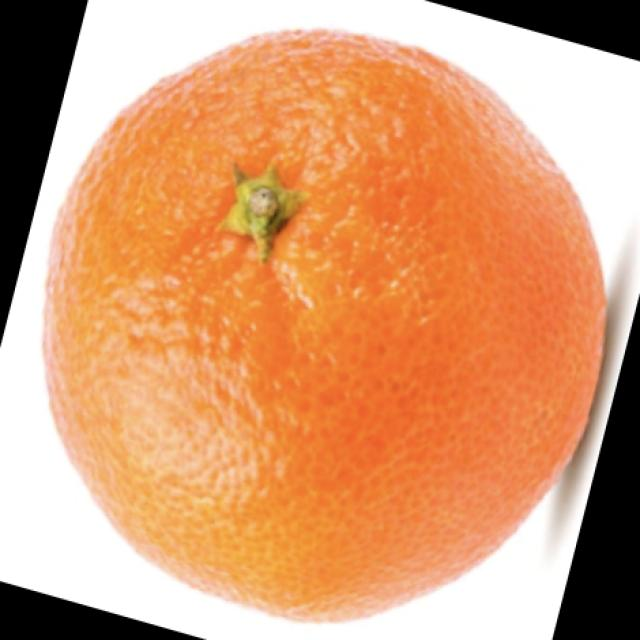orange: (70, 25, 616, 625)
